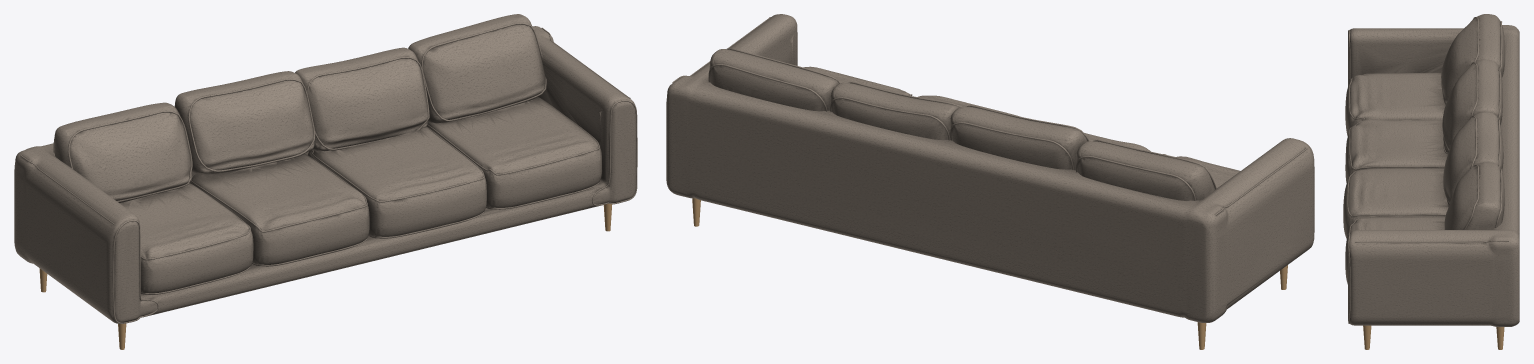
Rendered from chenille-topo.gltf.
3 views of the same model, side by side, from view 1: azimuth 30°, elevation 25°; view 2: azimuth 150°, elevation 25°; view 3: azimuth 270°, elevation 25° (orthographic). The views are drawn at different scales.
Parts seen in each view (by area): view 1: tela_ar, madera_ar; view 2: tela_ar, madera_ar; view 3: tela_ar, madera_ar.
Boxes of the visible parts, x1,y1,x2,y2 form: tela_ar: (14,14,637,323); madera_ar: (39,203,612,349); tela_ar: (666,14,1314,322); madera_ar: (692,198,1287,349); tela_ar: (1343,14,1519,326); madera_ar: (1363,325,1504,349).
Size of the model in its own units: 2.7 by 0.8297 by 0.9224.
2 materials, 2 textured.
